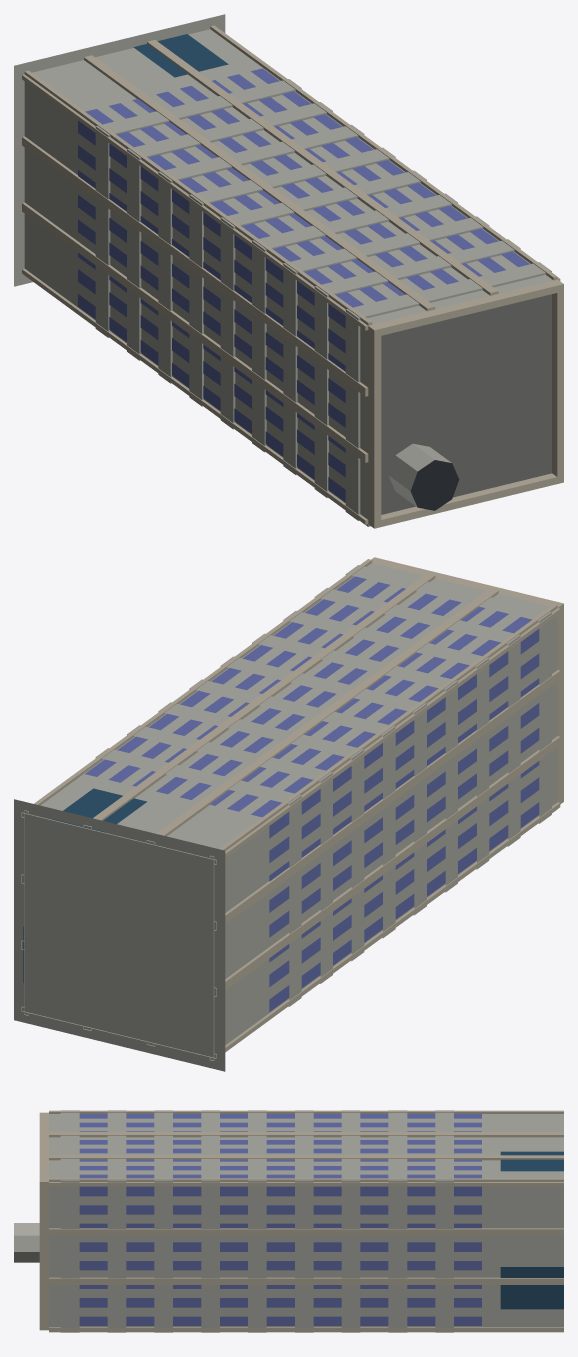
Rendered from complete.glb.
3 renders of one model, top to bottom at view 1: azimuth 30°, elevation 25°; view 2: azimuth 150°, elevation 25°; view 3: azimuth 270°, elevation 25°, orthographic. The views are drawn at different scales.
Parts seen in each view (by area): view 1: complete; view 2: complete; view 3: complete.
Part boxes in pixels (box(x1,y1,x2,y2)): complete: box(14, 14, 563, 528); complete: box(14, 557, 563, 1071); complete: box(14, 1110, 563, 1332).
Bounding box in the file's own units: 15.6 × 15.6 × 47.
